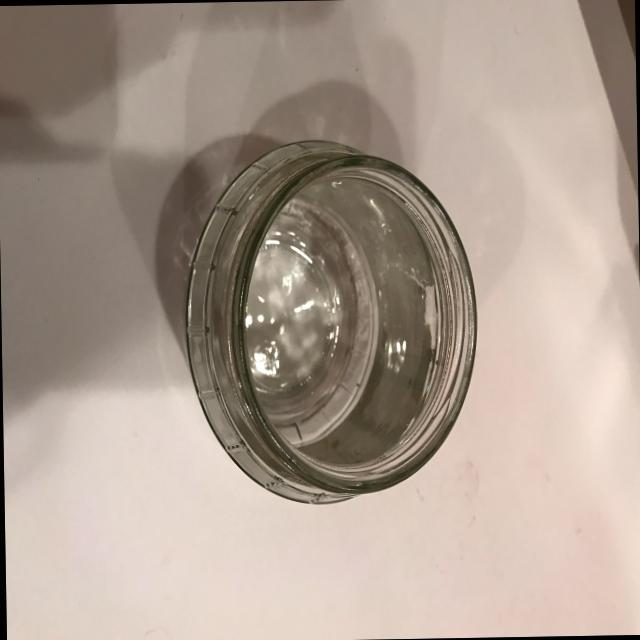Glass: (143, 119, 496, 526)
